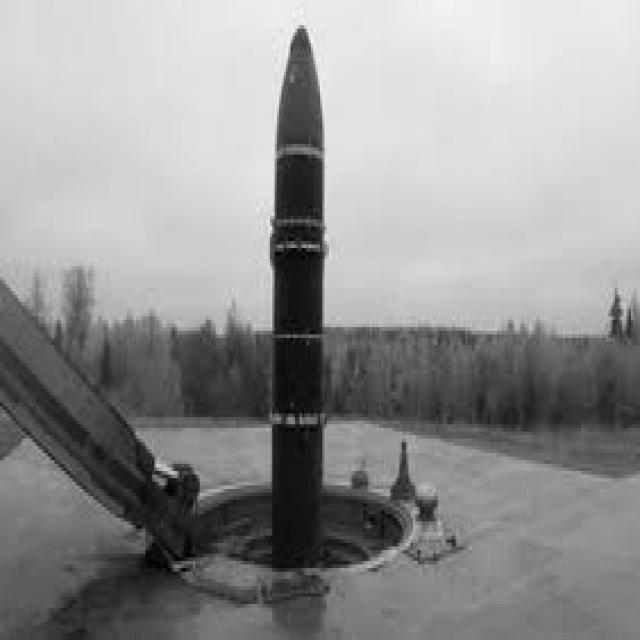missile: (266, 22, 334, 565)
